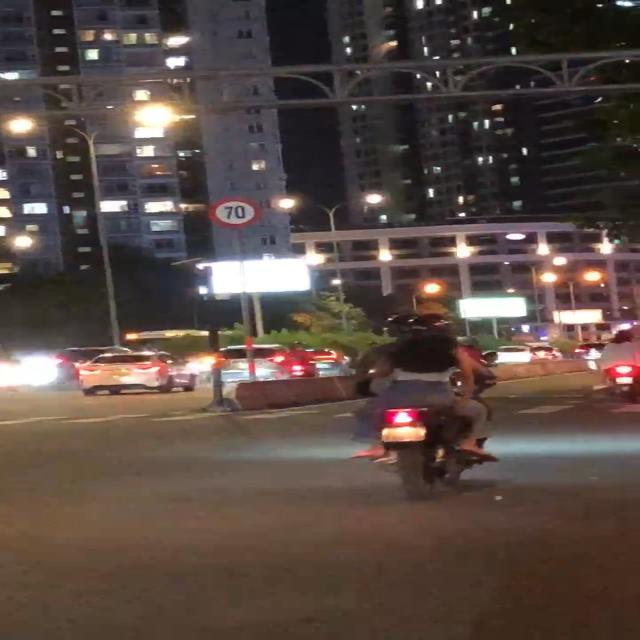Bien bao toc do toi da cho phep: (208, 196, 266, 228)
